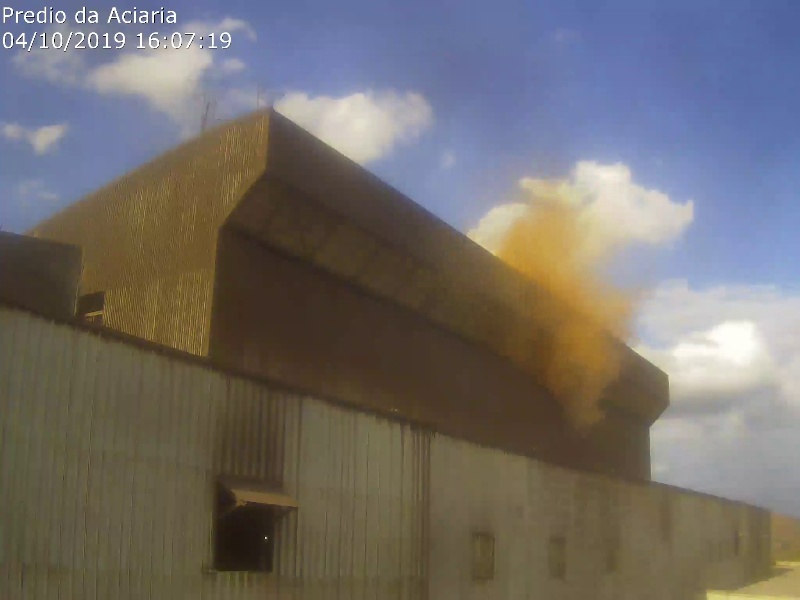bom: (3, 4, 427, 235), (428, 14, 800, 167)
pessimo: (481, 173, 658, 409)
